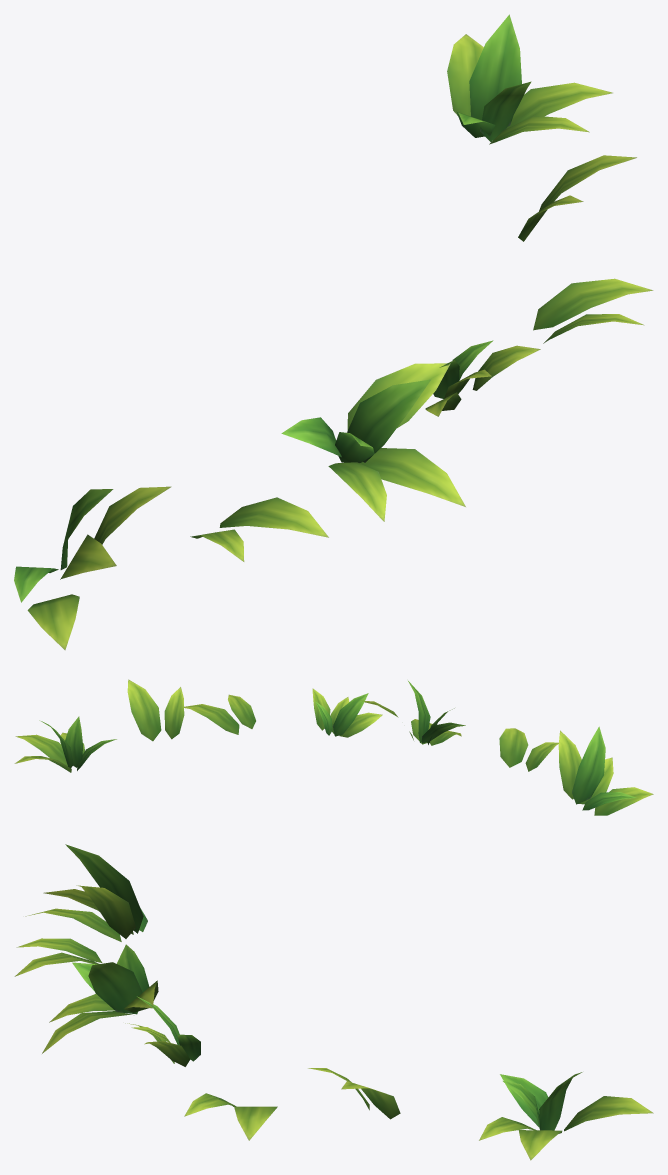
Rendered from scenes_town_plants01a.FBX.
3 views of the same model, one above another, from view 1: azimuth 30°, elevation 25°; view 2: azimuth 150°, elevation 25°; view 3: azimuth 270°, elevation 25° (orthographic). The views are drawn at different scales.
Parts seen in each view (by area): view 1: scenes_town_plants01a; view 2: scenes_town_plants01a; view 3: scenes_town_plants01a.
Boxes of the visible parts, left/top/right/bottom form: scenes_town_plants01a: left=14, top=14, right=653, bottom=650; scenes_town_plants01a: left=14, top=679, right=653, bottom=815; scenes_town_plants01a: left=14, top=844, right=653, bottom=1160.
Size of the model in its own units: 660 by 148 by 514.
